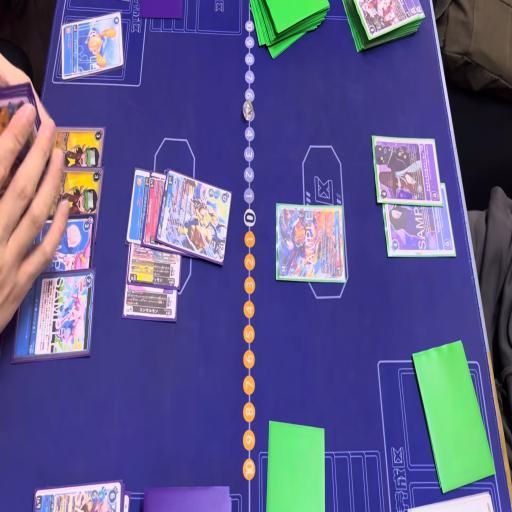card: (8, 264, 99, 367), (156, 160, 232, 264), (272, 205, 344, 281), (371, 133, 442, 204), (60, 8, 123, 82), (384, 197, 458, 258), (39, 164, 107, 230), (38, 212, 96, 275), (33, 474, 128, 512), (354, 0, 423, 41), (48, 124, 108, 169), (126, 244, 182, 288), (122, 162, 149, 246), (118, 289, 178, 326), (148, 172, 166, 249)
